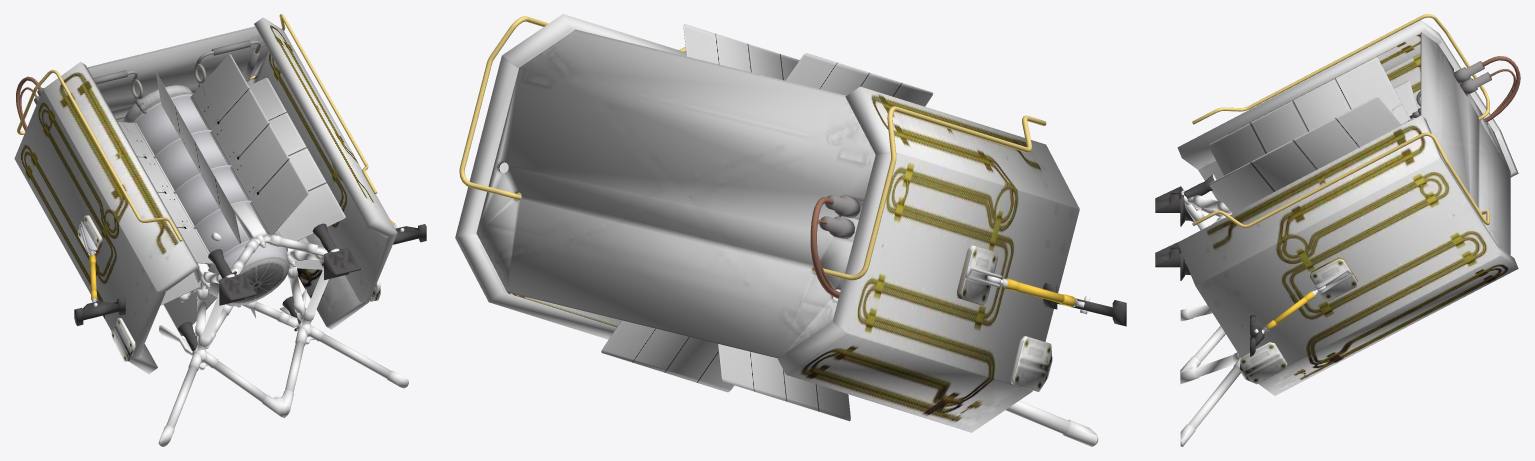
The model's file is rtg.glb.
The picture shows the model from 3 angles, left to right: view 1: azimuth 30°, elevation 25°; view 2: azimuth 150°, elevation 25°; view 3: azimuth 270°, elevation 25°; orthographic projection. The views are drawn at different scales.
Parts seen in each view (by area): view 1: rtg; view 2: rtg; view 3: rtg.
Part boxes in pixels (bbox=[...]): rtg: bbox=[14, 14, 426, 446]; rtg: bbox=[455, 14, 1126, 446]; rtg: bbox=[1155, 14, 1520, 446].
Bounding box in the file's own units: 1.15 × 0.9318 × 0.9742.
13 materials, 5 textured.
